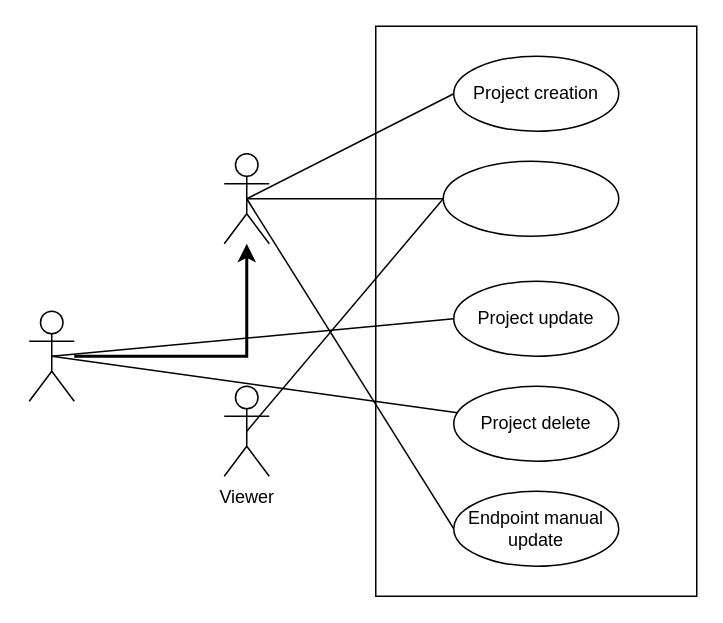
This 723x623 diagram has some shape labels left out. The shapes that lost their labels are listed below. From the top down, each one's centre as x and y in pixels, then its label:
pixel 246 198: Admin
pixel 530 198: Project dashboard view
pixel 51 355: Owner
